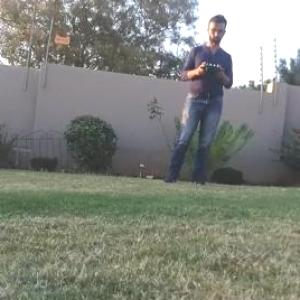follow: (156, 5, 235, 188)
